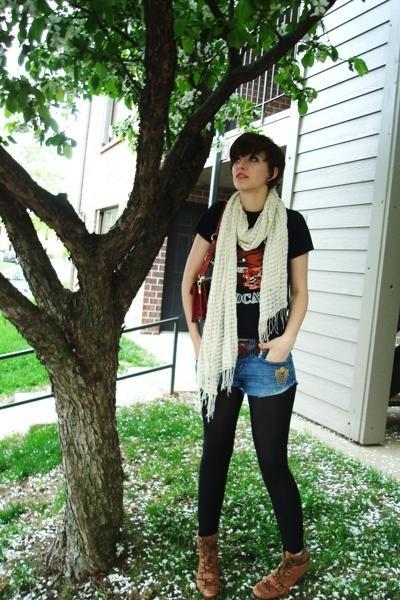bag: (176, 252, 215, 337)
pants: (197, 382, 306, 553)
shirt: (194, 187, 327, 339)
shoe: (194, 532, 307, 599)
shorts: (217, 338, 297, 401)
